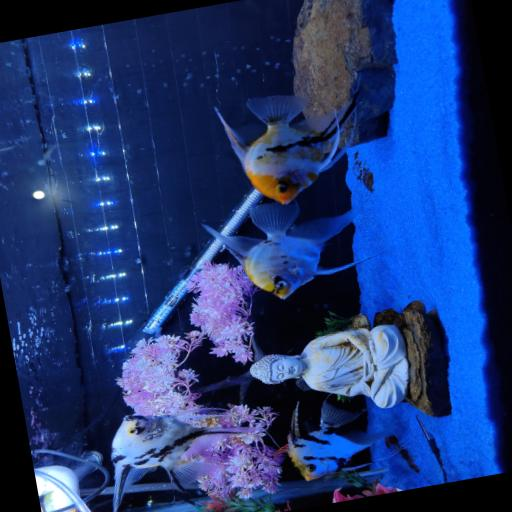Fish: (203, 202, 370, 299), (215, 92, 358, 204), (112, 410, 257, 511), (288, 401, 388, 480)
